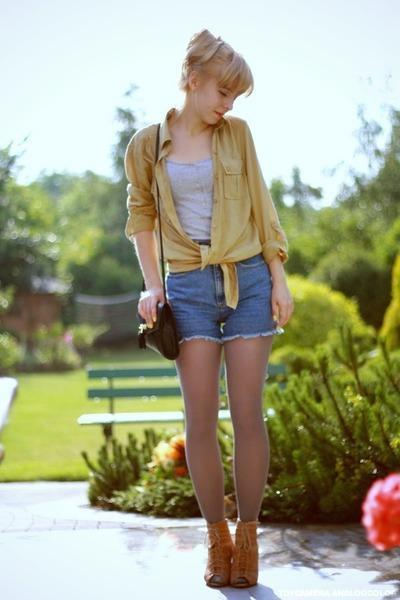bag: (151, 252, 190, 359)
shirt: (116, 118, 288, 308), (167, 158, 213, 239)
shoe: (207, 511, 270, 587)
shorts: (167, 253, 272, 343)
